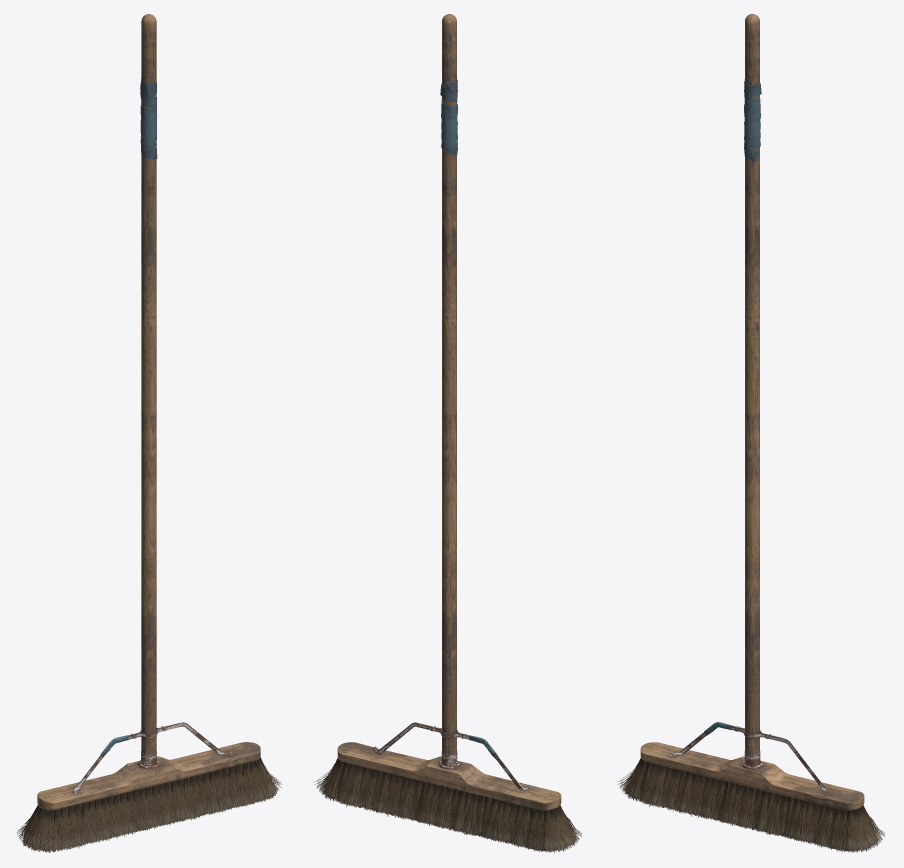
Rendered from wooden_broom.fbx.
The picture shows the model from 3 angles, left to right: view 1: azimuth 30°, elevation 25°; view 2: azimuth 150°, elevation 25°; view 3: azimuth 330°, elevation 25°; orthographic projection.
Parts seen in each view (by area): view 1: wooden_broom_handle.001, wooden_broom.001, wooden_broom_bristles.001; view 2: wooden_broom_handle.001, wooden_broom.001, wooden_broom_bristles.001; view 3: wooden_broom_handle.001, wooden_broom.001, wooden_broom_bristles.001.
Part boxes in pixels (<box>): wooden_broom_handle.001: <box>140,14,157,765</box>; wooden_broom.001: <box>23,722,274,850</box>; wooden_broom_bristles.001: <box>17,757,281,852</box>; wooden_broom_handle.001: <box>440,14,457,766</box>; wooden_broom.001: <box>326,722,576,850</box>; wooden_broom_bristles.001: <box>314,758,581,852</box>; wooden_broom_handle.001: <box>744,14,761,766</box>; wooden_broom.001: <box>625,722,877,850</box>; wooden_broom_bristles.001: <box>617,758,884,852</box>.
Bounding box in the file's own units: 49.02 × 145 × 11.25.
